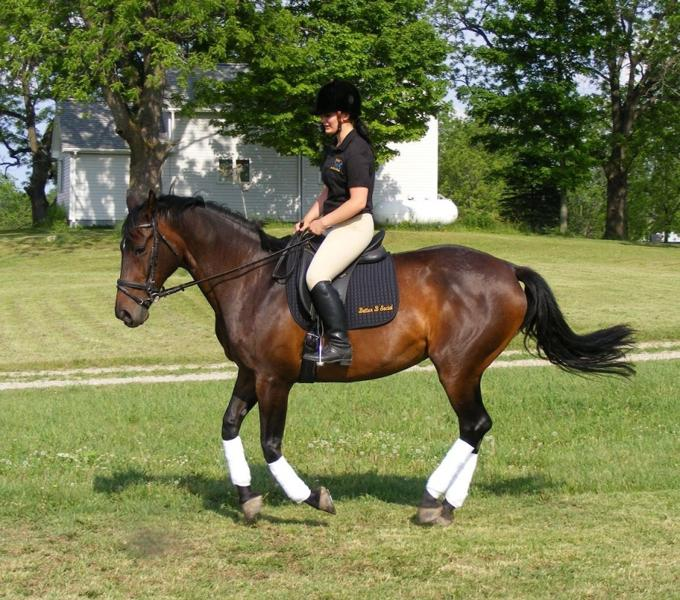person: (294, 86, 380, 370)
